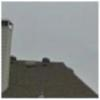chimneys: (2, 19, 13, 96)
